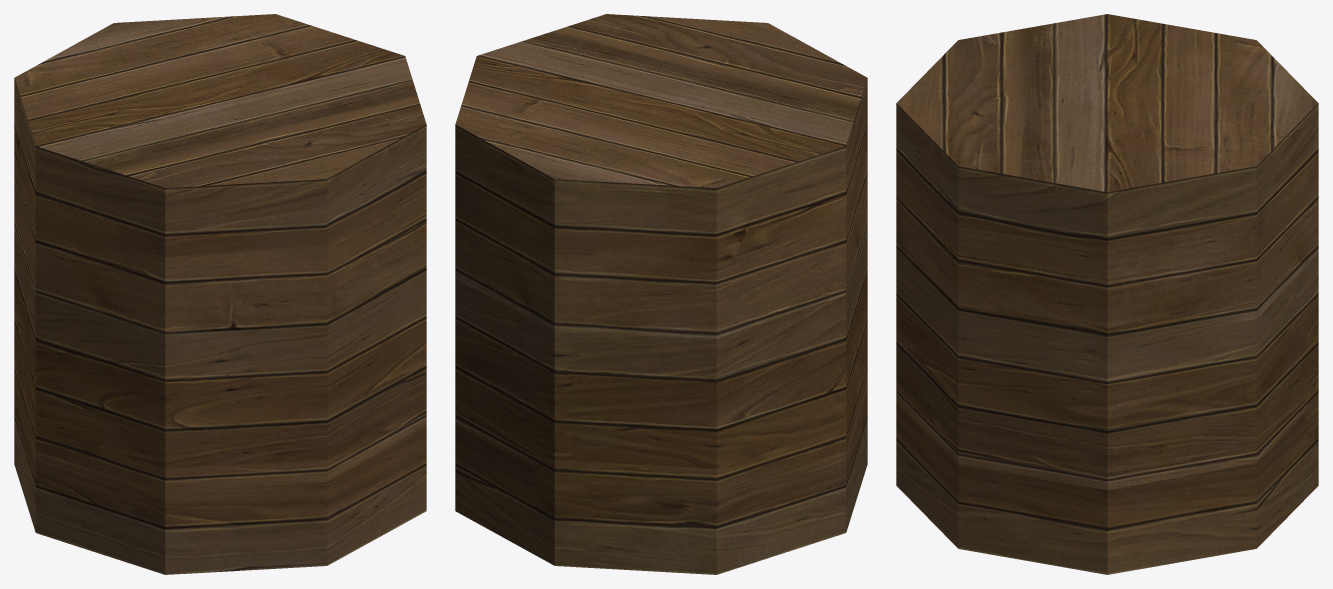
The picture shows the model from 3 angles, left to right: view 1: azimuth 30°, elevation 25°; view 2: azimuth 150°, elevation 25°; view 3: azimuth 270°, elevation 25°; orthographic projection.
Parts seen in each view (by area): view 1: Cylinder1_glb; view 2: Cylinder1_glb; view 3: Cylinder1_glb.
Boxes of the visible parts, x1,y1,x2,y2 form: Cylinder1_glb: (14, 14, 426, 574); Cylinder1_glb: (455, 14, 867, 574); Cylinder1_glb: (896, 14, 1318, 574).
Size of what is drawn, in the model's own units: 1 by 1 by 1.
1 material, 1 textured.
